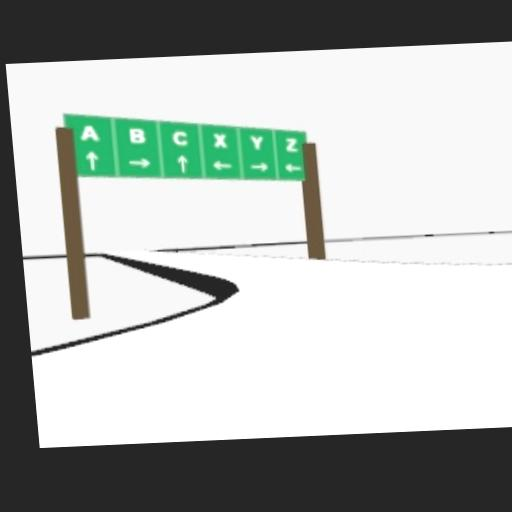A: (79, 125, 99, 140)
B: (128, 128, 147, 143)
C: (173, 131, 187, 146)
Left: (210, 158, 231, 169), (283, 162, 301, 171)
Right: (127, 157, 150, 168), (249, 161, 269, 172)
Straight: (84, 149, 99, 170), (176, 154, 188, 171)
X: (211, 132, 225, 148)
Y: (249, 133, 264, 149)
Z: (284, 138, 298, 151)
